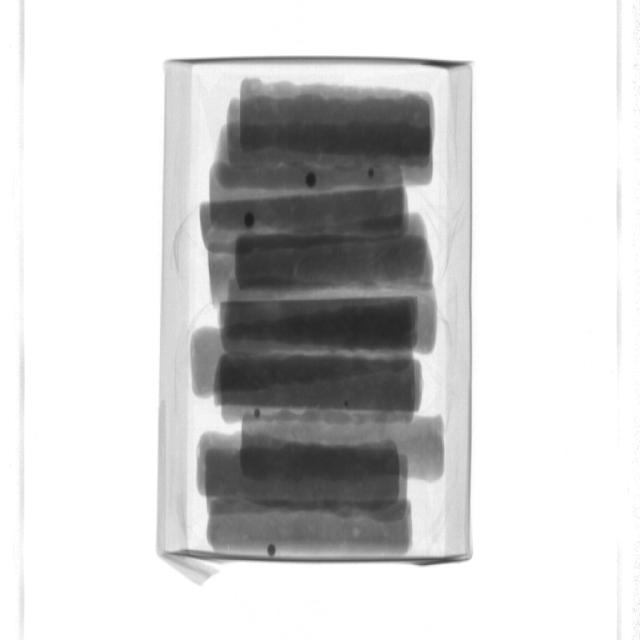ym: (308, 173, 319, 189), (245, 213, 256, 229), (270, 544, 279, 556), (367, 170, 375, 180), (254, 410, 261, 420), (345, 401, 351, 407)
